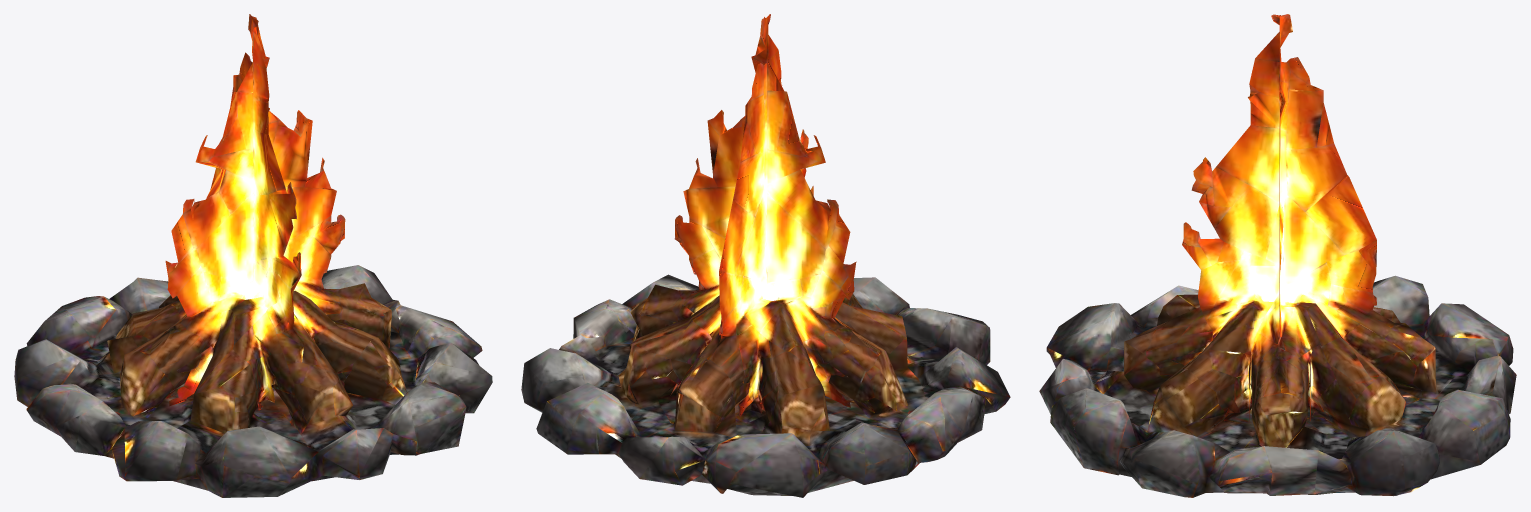
Rendered from Meshy_AI_Pixel_Campfire_0621211147_texture.glb.
3 renders of one model, left to right at view 1: azimuth 30°, elevation 25°; view 2: azimuth 150°, elevation 25°; view 3: azimuth 270°, elevation 25°, orthographic. The views are drawn at different scales.
Bounding box in the file's own units: 1.84 × 1.72 × 1.84.
1 material, 1 textured.
